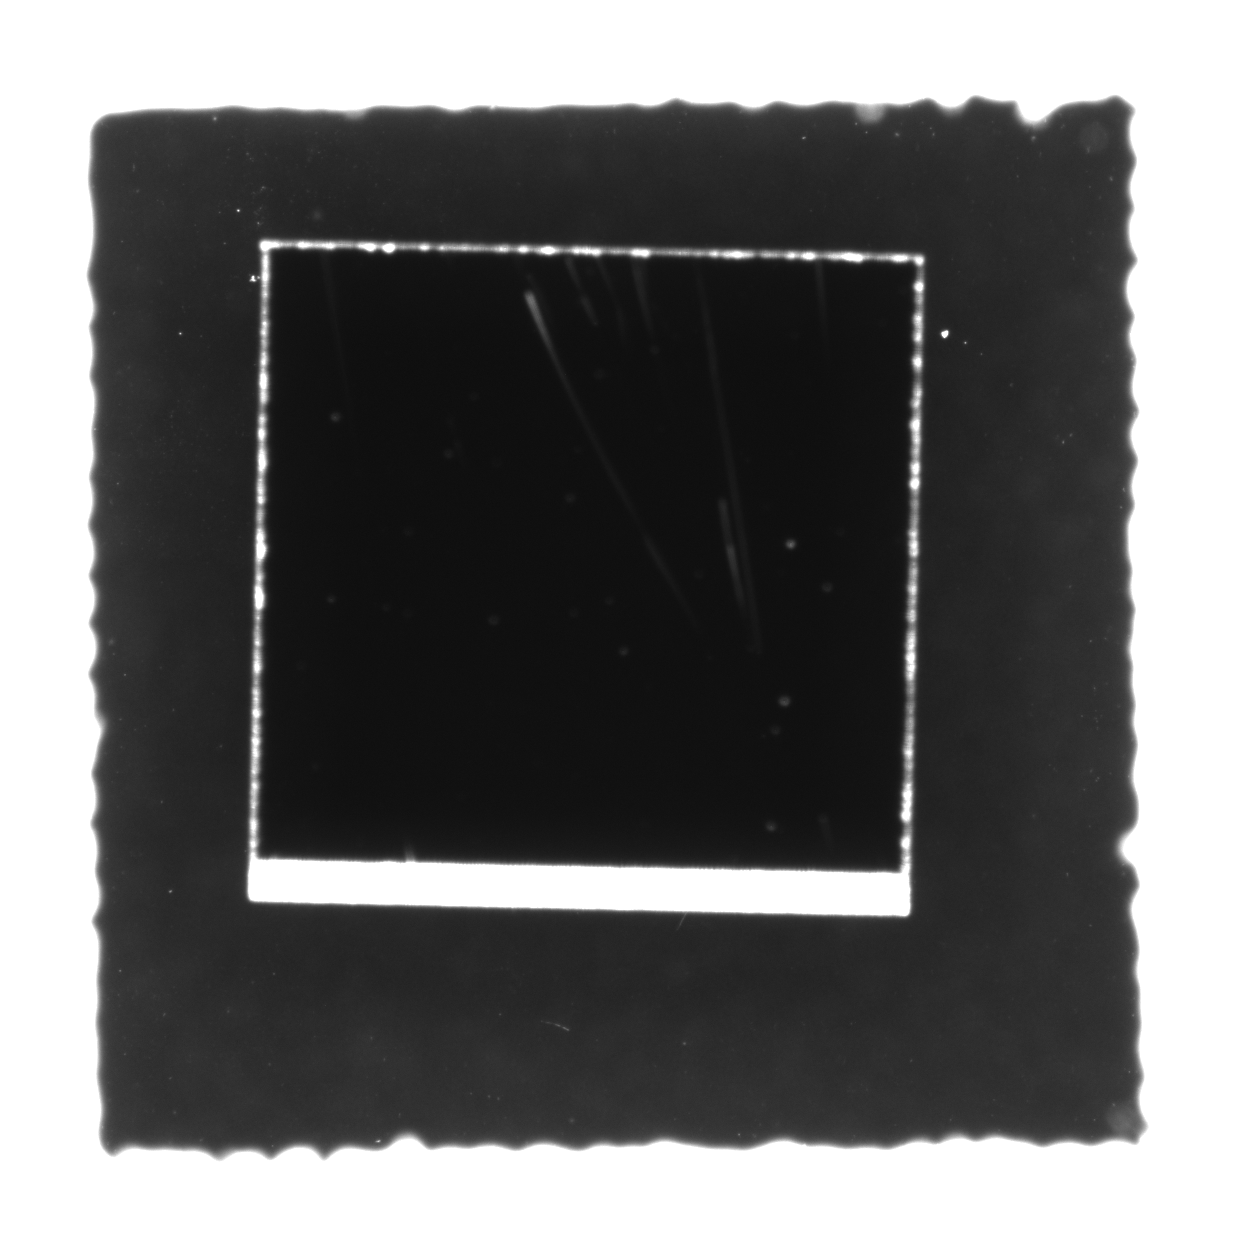dot: (773, 688, 795, 712), (781, 529, 801, 551), (755, 814, 778, 831), (935, 323, 954, 340)
edge_bottom: (253, 843, 906, 927)
light_scratch: (699, 458, 765, 615), (514, 294, 565, 358)
